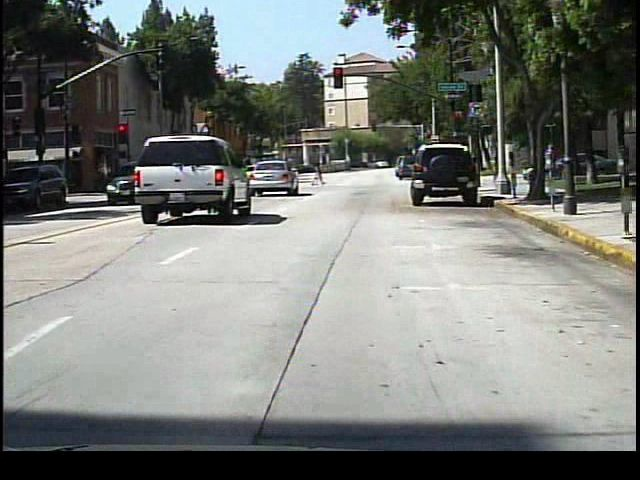person: (541, 140, 561, 184), (310, 156, 329, 188), (460, 152, 476, 184)
